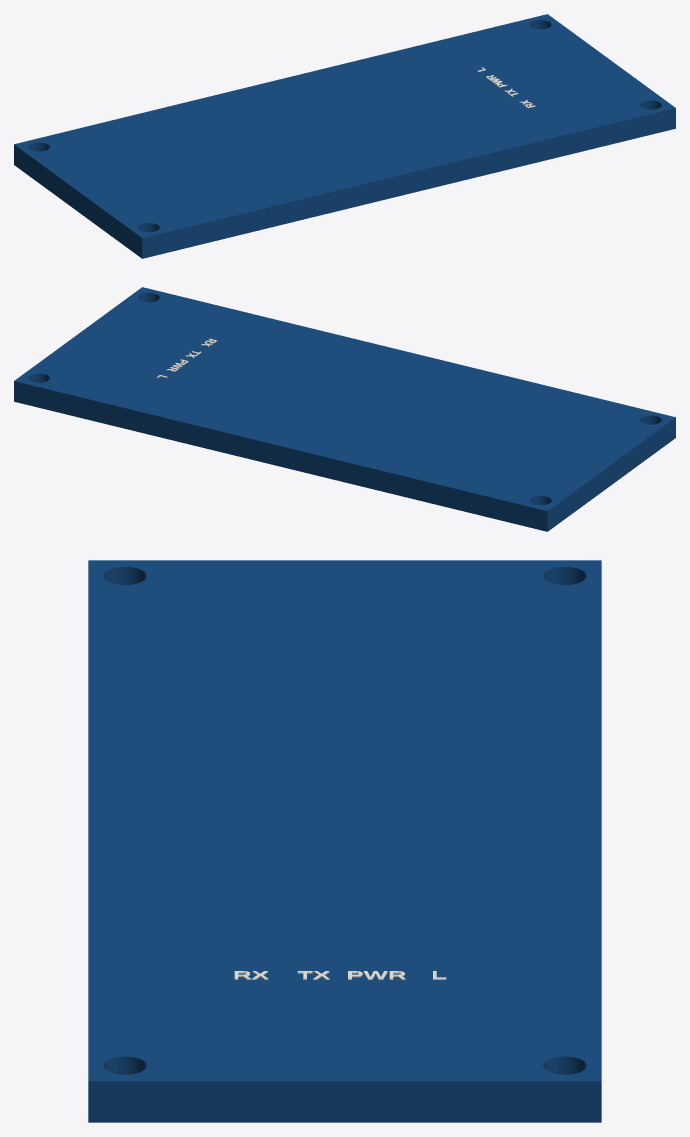
Rendered from nano-board.glb.
3 renders of one model, top to bottom at view 1: azimuth 30°, elevation 25°; view 2: azimuth 150°, elevation 25°; view 3: azimuth 270°, elevation 25°, orthographic. The views are drawn at different scales.
Size of the model in its own units: 0.0432 by 0.00165 by 0.018.
